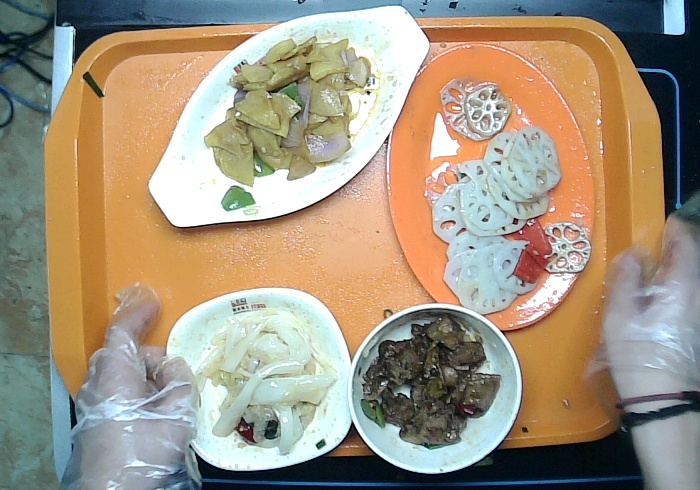NLDX-Bai_Se_Xiao_Fang_Die: (165, 287, 355, 473)
NLDX-Fan_Wan: (348, 302, 528, 475)
NLDX-Ju_Se_Pan: (386, 43, 596, 334)
NLDX-Yu_Pan: (145, 5, 431, 229)
